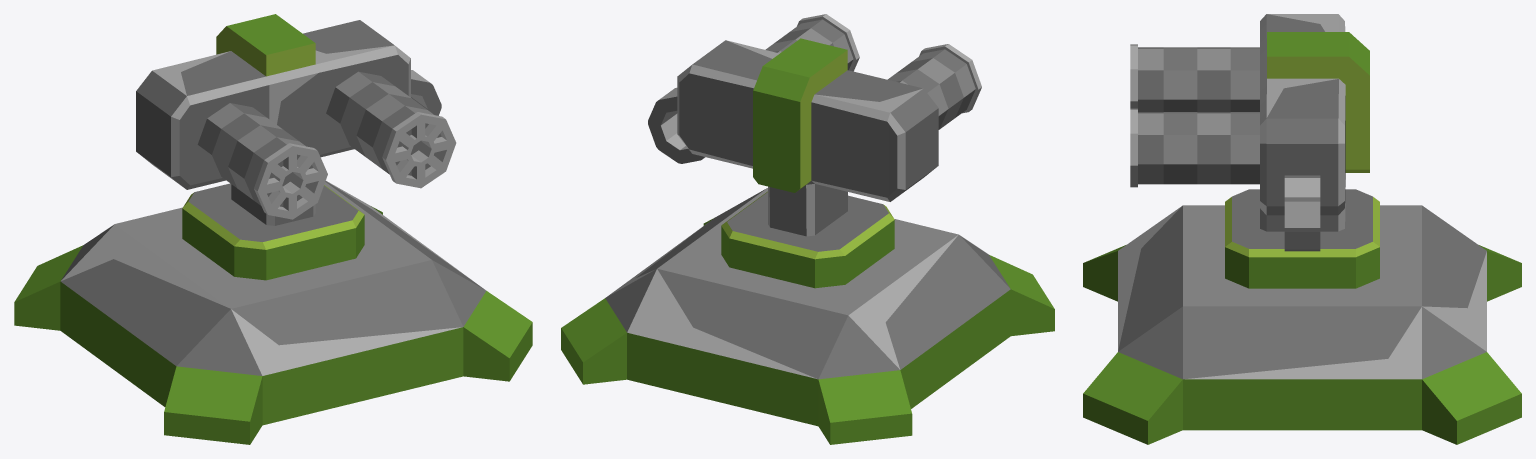
Rendered from tower_gatling_green_1.fbx.
3 views of the same model, side by side, from view 1: azimuth 30°, elevation 25°; view 2: azimuth 150°, elevation 25°; view 3: azimuth 270°, elevation 25° (orthographic). The views are drawn at different scales.
Visible parts, largest first — view 1: tower_gatling_green_1, top_gatling_green_1; view 2: tower_gatling_green_1, top_gatling_green_1; view 3: tower_gatling_green_1, top_gatling_green_1.
Boxes of the visible parts, x1=… form: tower_gatling_green_1: x1=14, y1=181, x2=532, y2=444; top_gatling_green_1: x1=136, y1=14, x2=456, y2=280; tower_gatling_green_1: x1=561, y1=188, x2=1054, y2=444; top_gatling_green_1: x1=648, y1=14, x2=981, y2=288; tower_gatling_green_1: x1=1083, y1=205, x2=1521, y2=444; top_gatling_green_1: x1=1130, y1=14, x2=1379, y2=288.
Size of the model in its own units: 158 by 122 by 158.
